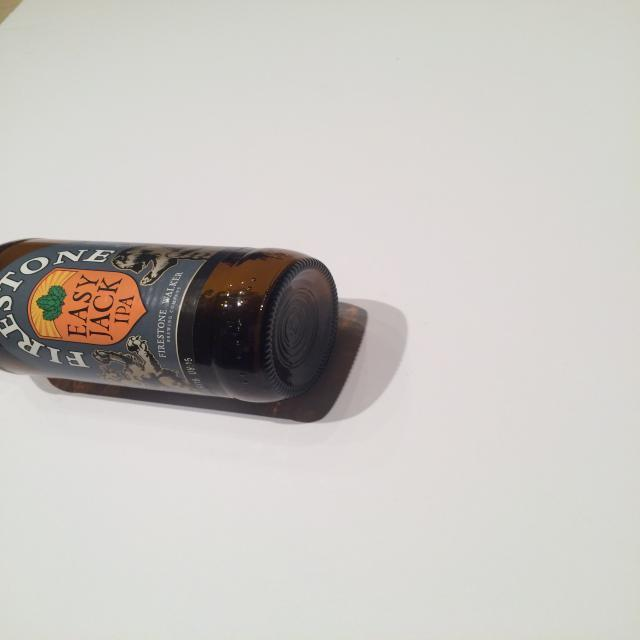glass: (2, 237, 340, 406)
